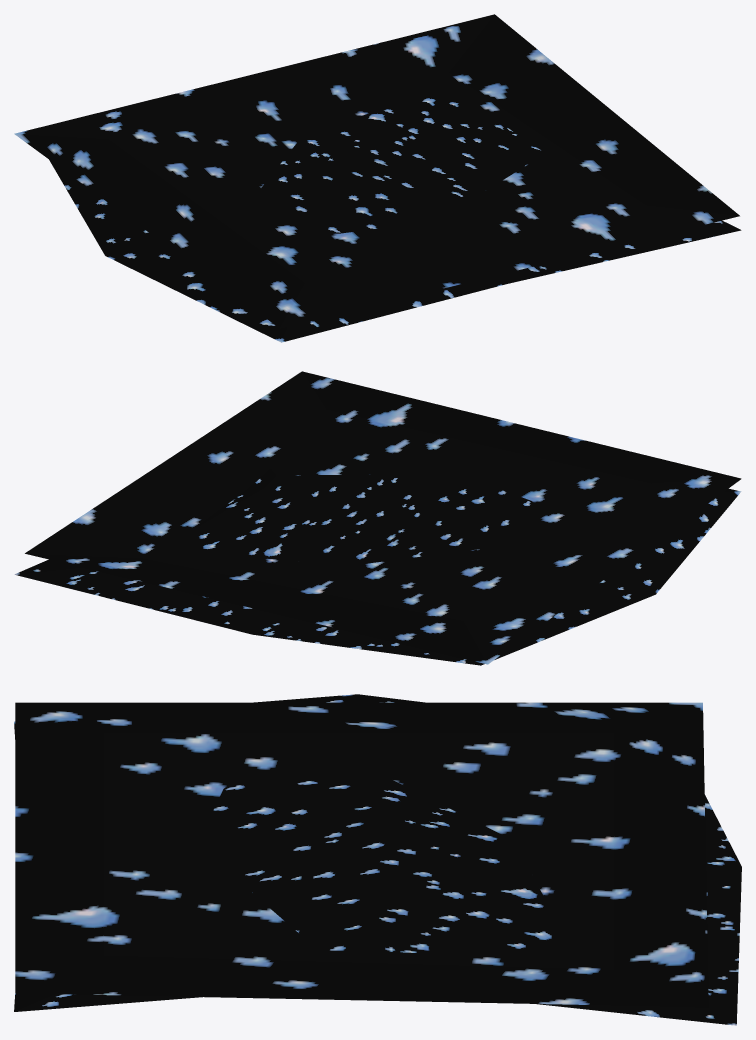
3 views of the same model, one above another, from view 1: azimuth 30°, elevation 25°; view 2: azimuth 150°, elevation 25°; view 3: azimuth 270°, elevation 25° (orthographic). The views are drawn at different scales.
Visible parts, largest first — view 1: 1058; view 2: 1058; view 3: 1058.
Part boxes in pixels (<box>): 1058: <box>14,14,741,342</box>; 1058: <box>14,371,741,665</box>; 1058: <box>14,694,741,1025</box>.
Bounding box in the file's own units: 1.71 × 0.0714 × 1.59.
Materials: 1 (1 with a texture image).
